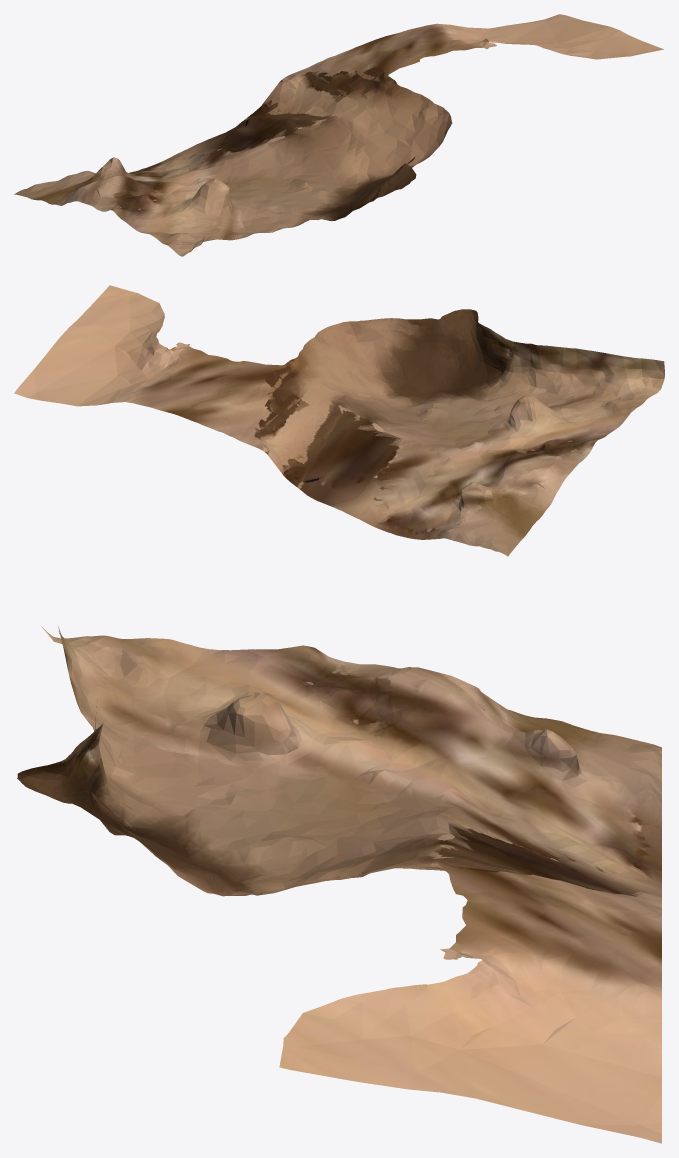
3 views of the same model, one above another, from view 1: azimuth 30°, elevation 25°; view 2: azimuth 150°, elevation 25°; view 3: azimuth 270°, elevation 25° (orthographic). The views are drawn at different scales.
Bounding box in the file's own units: 1.04 × 0.1754 × 0.5902.
Materials: 1 (1 with a texture image).
